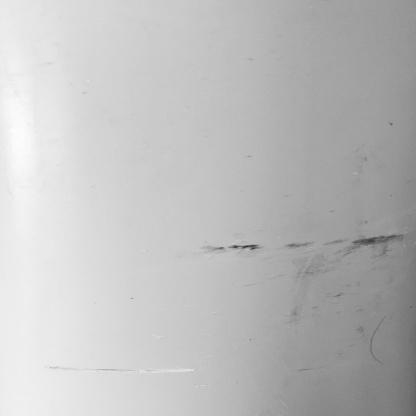sunshang: (41, 357, 210, 380)
